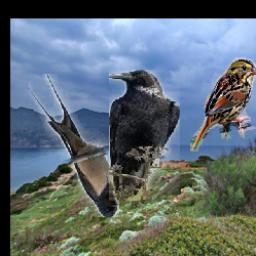Crow: (108, 70, 179, 201)
Sparrow: (189, 57, 256, 152)
Swallow: (29, 74, 119, 217)
